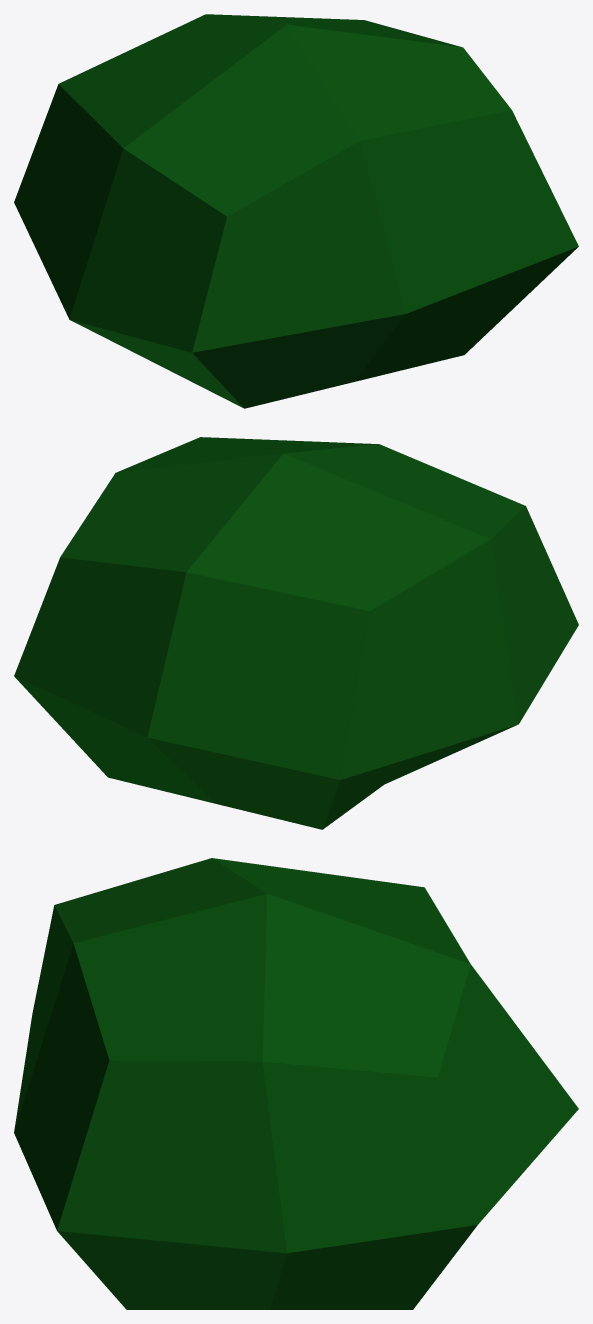
File: bush.fbx
The picture shows the model from 3 angles, top to bottom: view 1: azimuth 30°, elevation 25°; view 2: azimuth 150°, elevation 25°; view 3: azimuth 270°, elevation 25°; orthographic projection. The views are drawn at different scales.
Parts seen in each view (by area): view 1: Cube; view 2: Cube; view 3: Cube.
Part boxes in pixels (x1,y1,x2,y2): Cube: (14,14,578,408); Cube: (14,437,578,829); Cube: (14,858,578,1309).
Size of the model in its own units: 253 by 163 by 237.
